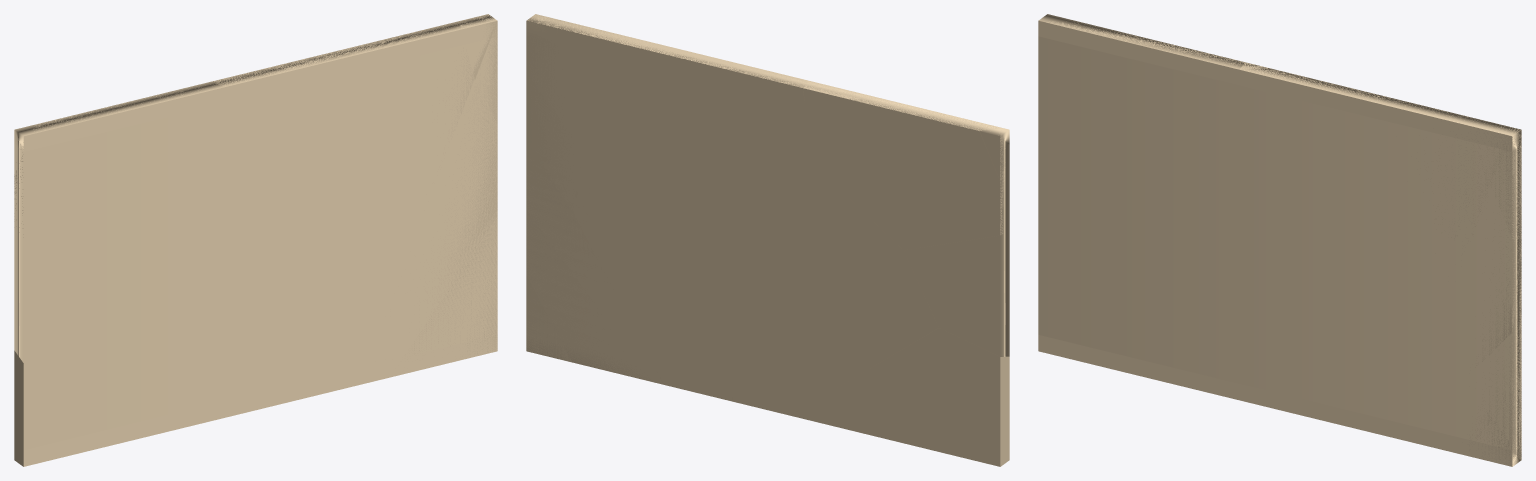
The model's file is 3x2Fracture_3DModel_1.fbx.
3 views of the same model, side by side, from view 1: azimuth 30°, elevation 25°; view 2: azimuth 150°, elevation 25°; view 3: azimuth 330°, elevation 25° (orthographic).
Parts seen in each view (by area): view 1: House Wall with trim.002, House Wall with trim.002_cell.003, House Wall with trim.002_cell.007, House Wall with trim.002_cell, House Wall with trim.002_cell.009, House Wall with trim.002_cell.001, House Wall with trim.002_cell.004; view 2: House Wall with trim.002_cell.007, House Wall with trim.002_cell.005, House Wall with trim.002, House Wall with trim.002_cell.006, House Wall with trim.002_cell.001, House Wall with trim.002_cell, House Wall with trim.002_cell.008, House Wall with trim.002_cell.009, House Wall with trim.002_cell.004, House Wall with trim.002_cell.003, House Wall with trim.002_cell.010; view 3: House Wall with trim.002, House Wall with trim.002_cell.009, House Wall with trim.002_cell.007, House Wall with trim.002_cell.004, House Wall with trim.002_cell.006, House Wall with trim.002_cell, House Wall with trim.002_cell.003.
Part boxes in pixels (x1=…): House Wall with trim.002: x1=14, y1=14, x2=497, y2=466; House Wall with trim.002_cell.003: x1=419, y1=87, x2=497, y2=314; House Wall with trim.002_cell.007: x1=212, y1=24, x2=474, y2=153; House Wall with trim.002_cell: x1=405, y1=218, x2=497, y2=359; House Wall with trim.002_cell.009: x1=460, y1=14, x2=497, y2=123; House Wall with trim.002_cell.001: x1=14, y1=350, x2=23, y2=466; House Wall with trim.002_cell.004: x1=462, y1=278, x2=497, y2=358; House Wall with trim.002_cell.007: x1=536, y1=23, x2=811, y2=400; House Wall with trim.002_cell.005: x1=732, y1=163, x2=938, y2=415; House Wall with trim.002: x1=526, y1=14, x2=1009, y2=415; House Wall with trim.002_cell.006: x1=803, y1=81, x2=1004, y2=250; House Wall with trim.002_cell.001: x1=790, y1=328, x2=1009, y2=466; House Wall with trim.002_cell: x1=526, y1=145, x2=663, y2=384; House Wall with trim.002_cell.008: x1=904, y1=235, x2=1000, y2=356; House Wall with trim.002_cell.009: x1=526, y1=14, x2=566, y2=119; House Wall with trim.002_cell.004: x1=526, y1=282, x2=571, y2=362; House Wall with trim.002_cell.003: x1=527, y1=113, x2=573, y2=213; House Wall with trim.002_cell.010: x1=980, y1=131, x2=1003, y2=180; House Wall with trim.002: x1=1038, y1=14, x2=1521, y2=466; House Wall with trim.002_cell.009: x1=1477, y1=126, x2=1521, y2=239; House Wall with trim.002_cell.007: x1=1240, y1=62, x2=1488, y2=238; House Wall with trim.002_cell.004: x1=1478, y1=385, x2=1521, y2=466; House Wall with trim.002_cell.006: x1=1046, y1=21, x2=1244, y2=65; House Wall with trim.002_cell: x1=1469, y1=256, x2=1521, y2=450; House Wall with trim.002_cell.003: x1=1472, y1=193, x2=1521, y2=367.
Bounding box in the file's own units: 600 × 400 × 20.
